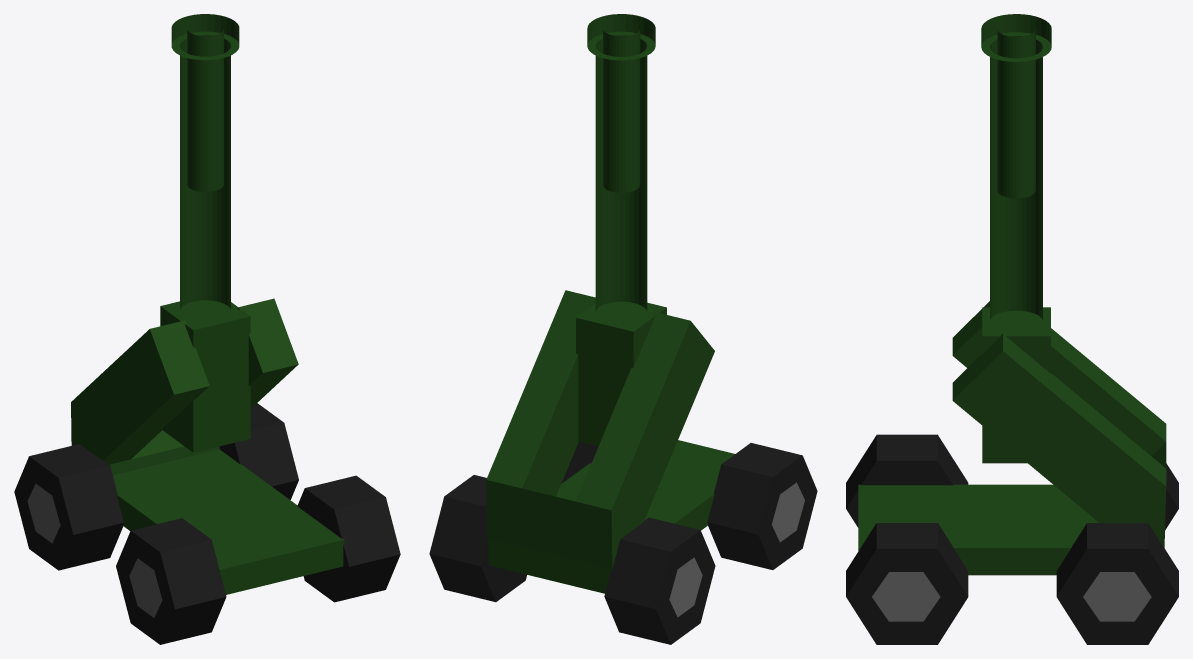
Rendered from towerZenit1lvl.fbx.
3 renders of one model, left to right at view 1: azimuth 30°, elevation 25°; view 2: azimuth 150°, elevation 25°; view 3: azimuth 270°, elevation 25°, orthographic. The views are drawn at different scales.
Visible parts, largest first — view 1: Cube.010; view 2: Cube.010; view 3: Cube.010.
Part boxes in pixels (bbox=[...]): Cube.010: bbox=[14, 14, 400, 644]; Cube.010: bbox=[429, 14, 817, 644]; Cube.010: bbox=[846, 14, 1178, 644].
Size of the model in its own units: 145 by 331 by 179.
